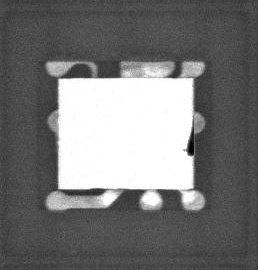DIE_BROKEN: (183, 123, 196, 157)
